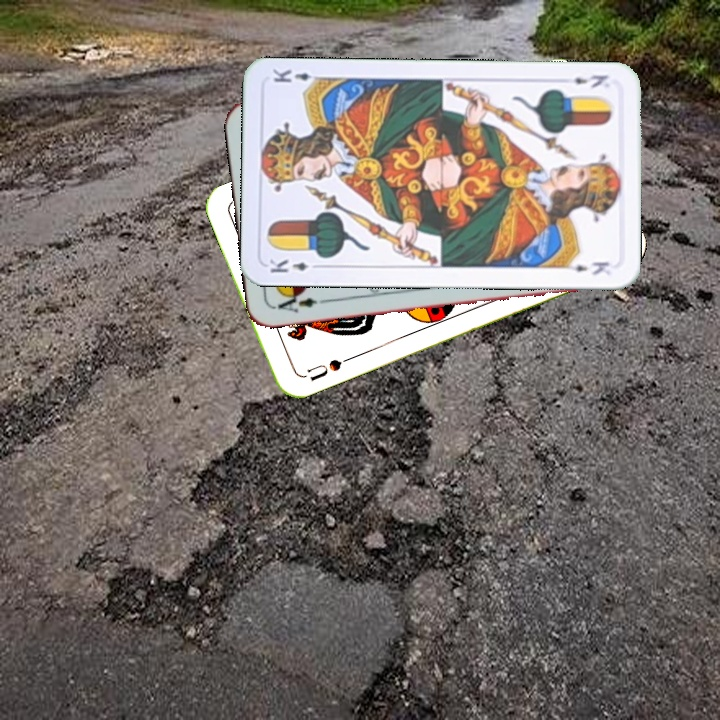EA: (271, 288, 330, 316)
EK: (265, 255, 324, 276), (569, 71, 611, 91)
SU: (297, 353, 354, 384)
